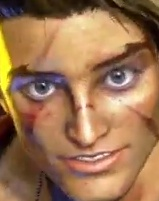kevin: (8, 0, 158, 200)
